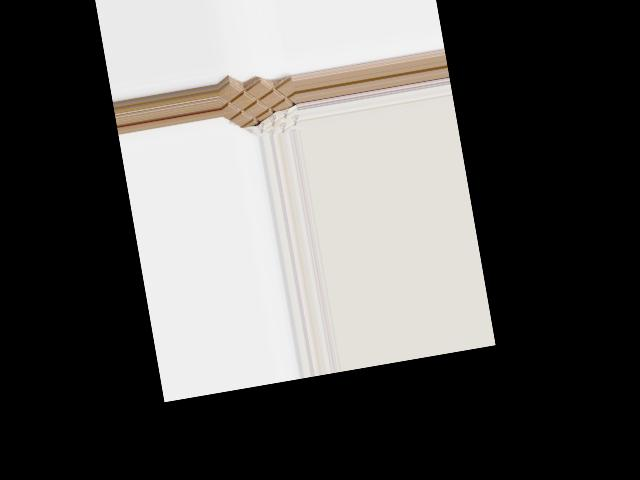chocolate: (218, 70, 301, 141)
